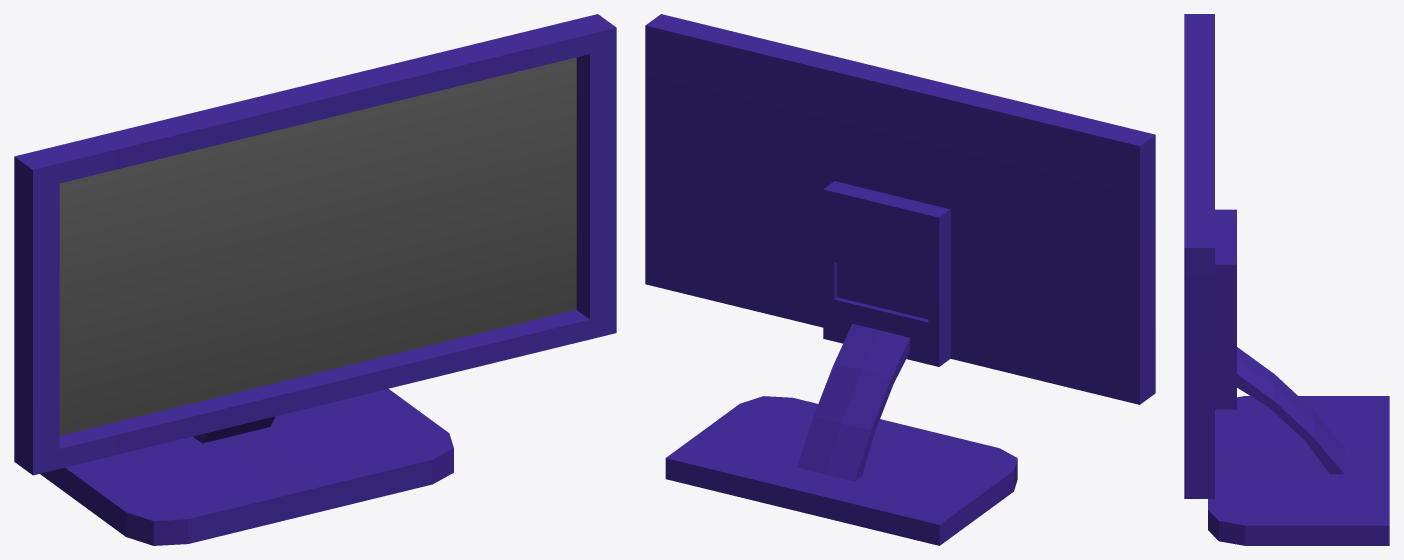
The model's file is sp_computer_monitor_a.fbx.
The picture shows the model from 3 angles, left to right: view 1: azimuth 30°, elevation 25°; view 2: azimuth 150°, elevation 25°; view 3: azimuth 270°, elevation 25°; orthographic projection. The views are drawn at different scales.
Visible parts, largest first — view 1: sp_computer_monitor_a; view 2: sp_computer_monitor_a; view 3: sp_computer_monitor_a.
Boxes of the visible parts, x1,y1,x2,y2 form: sp_computer_monitor_a: [14, 14, 616, 545]; sp_computer_monitor_a: [645, 14, 1155, 545]; sp_computer_monitor_a: [1184, 14, 1389, 545].
Bounding box in the file's own units: 152 × 106 × 56.47.
